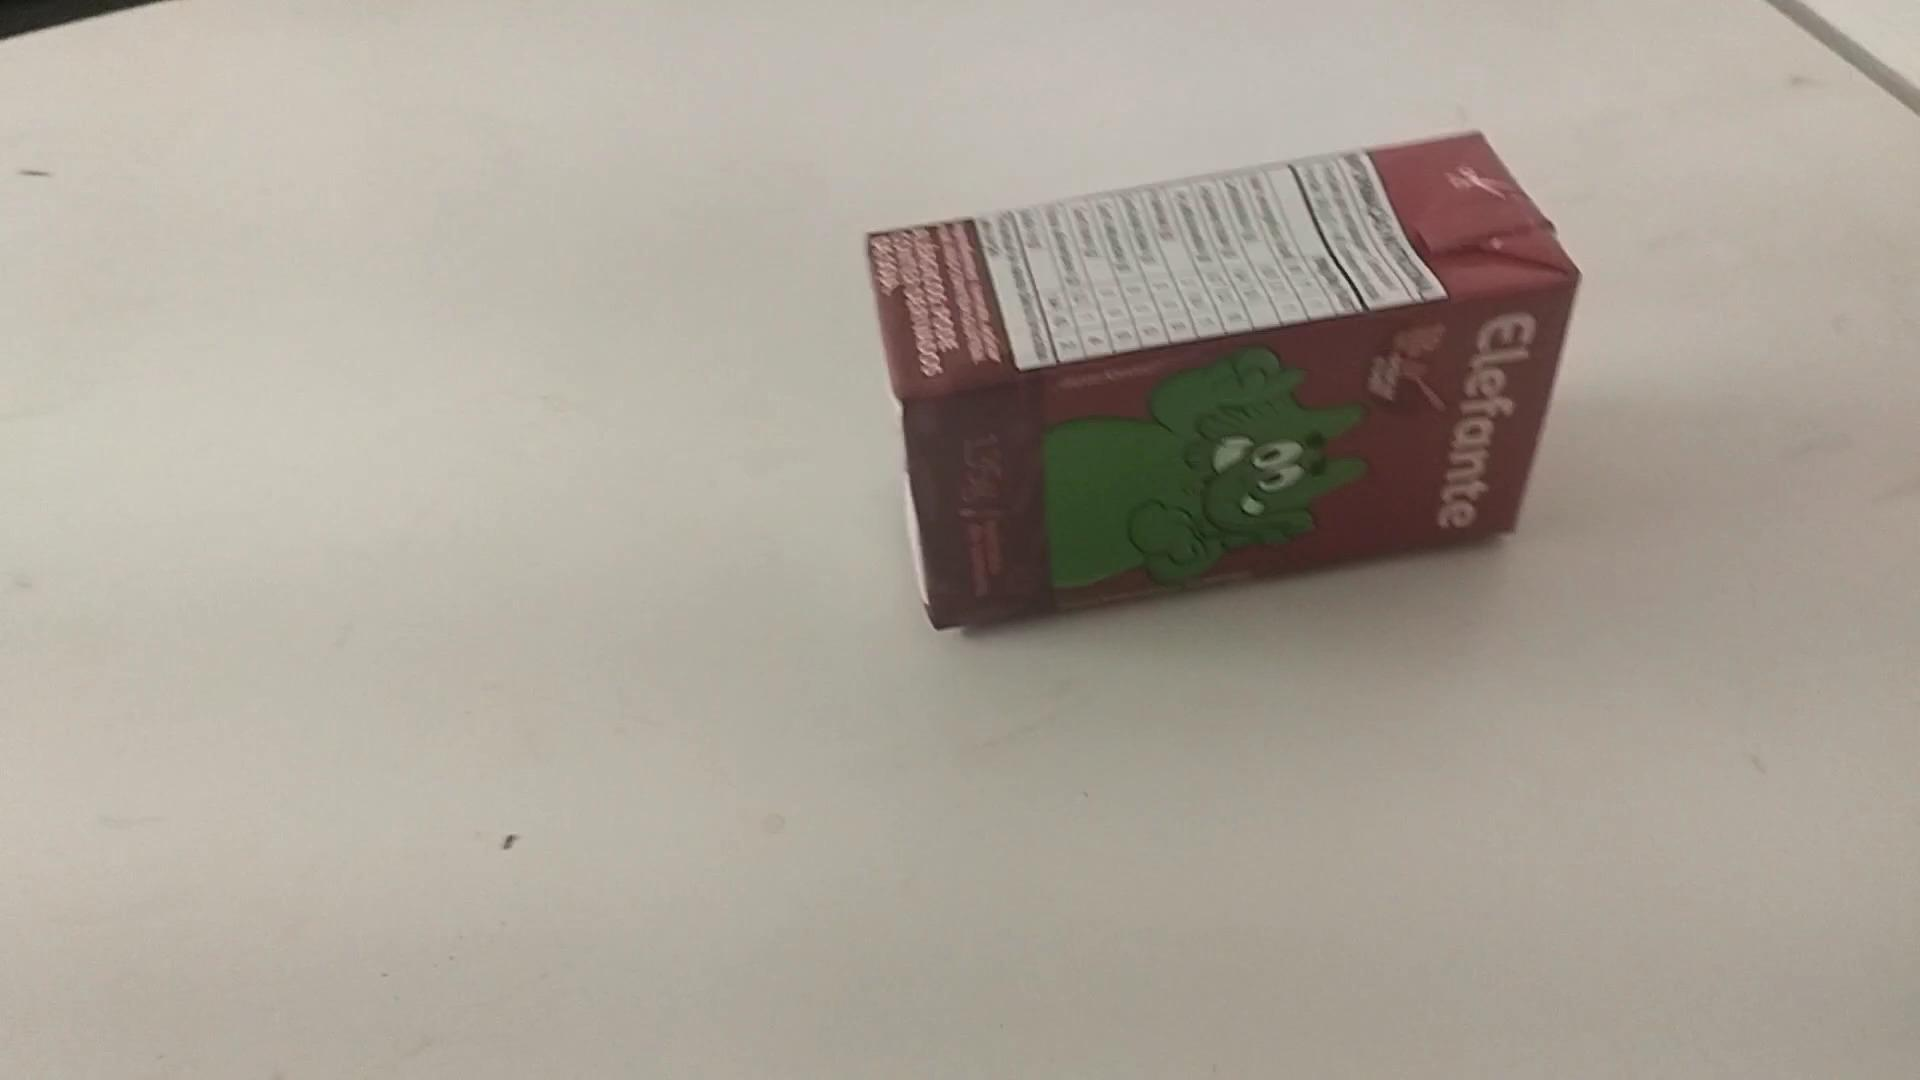tomate: (866, 125, 1573, 633)
